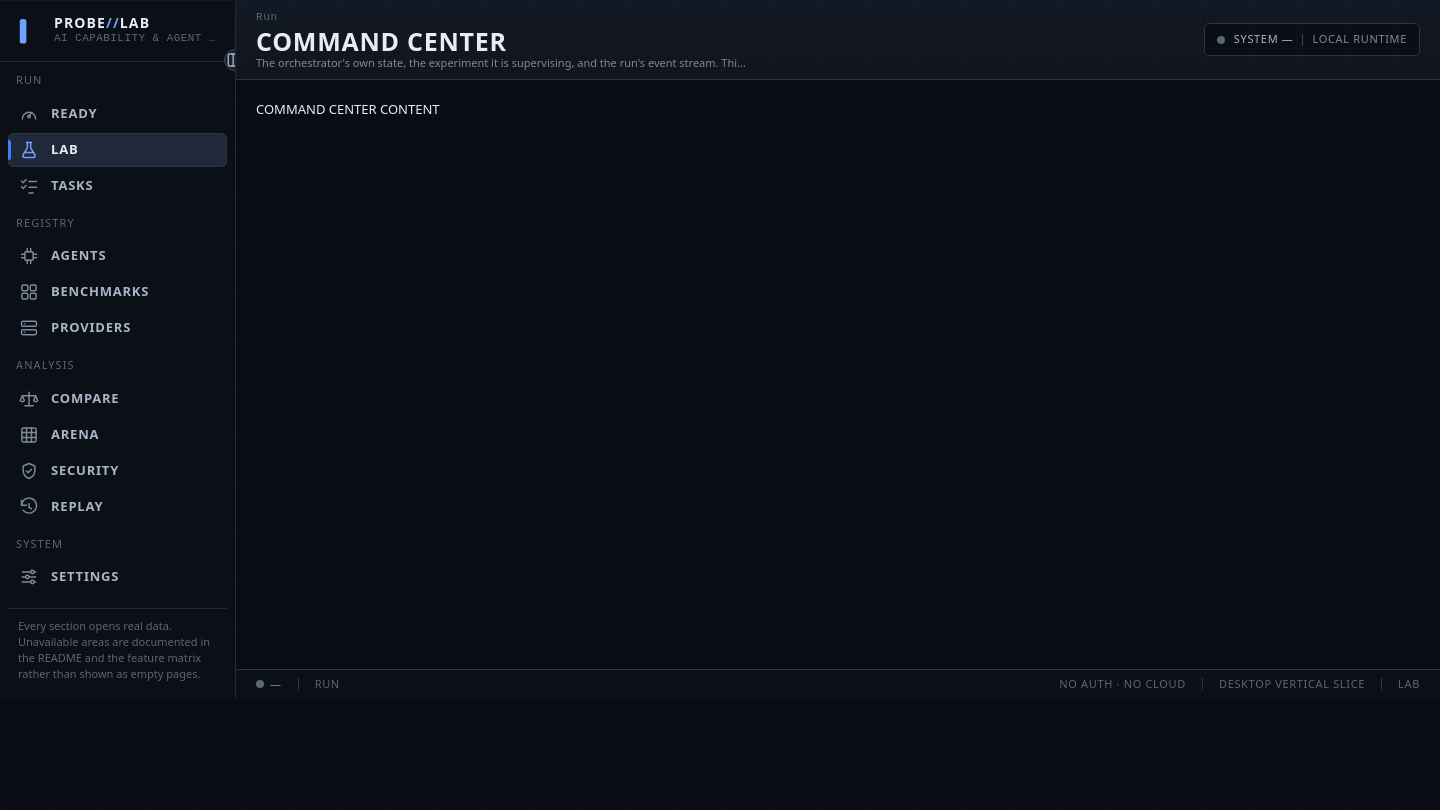
it: destination navigation › switches pages when an item is clicked
Click the button "SECURITY" at (118, 470), box left=8, top=454, right=227, bottom=488
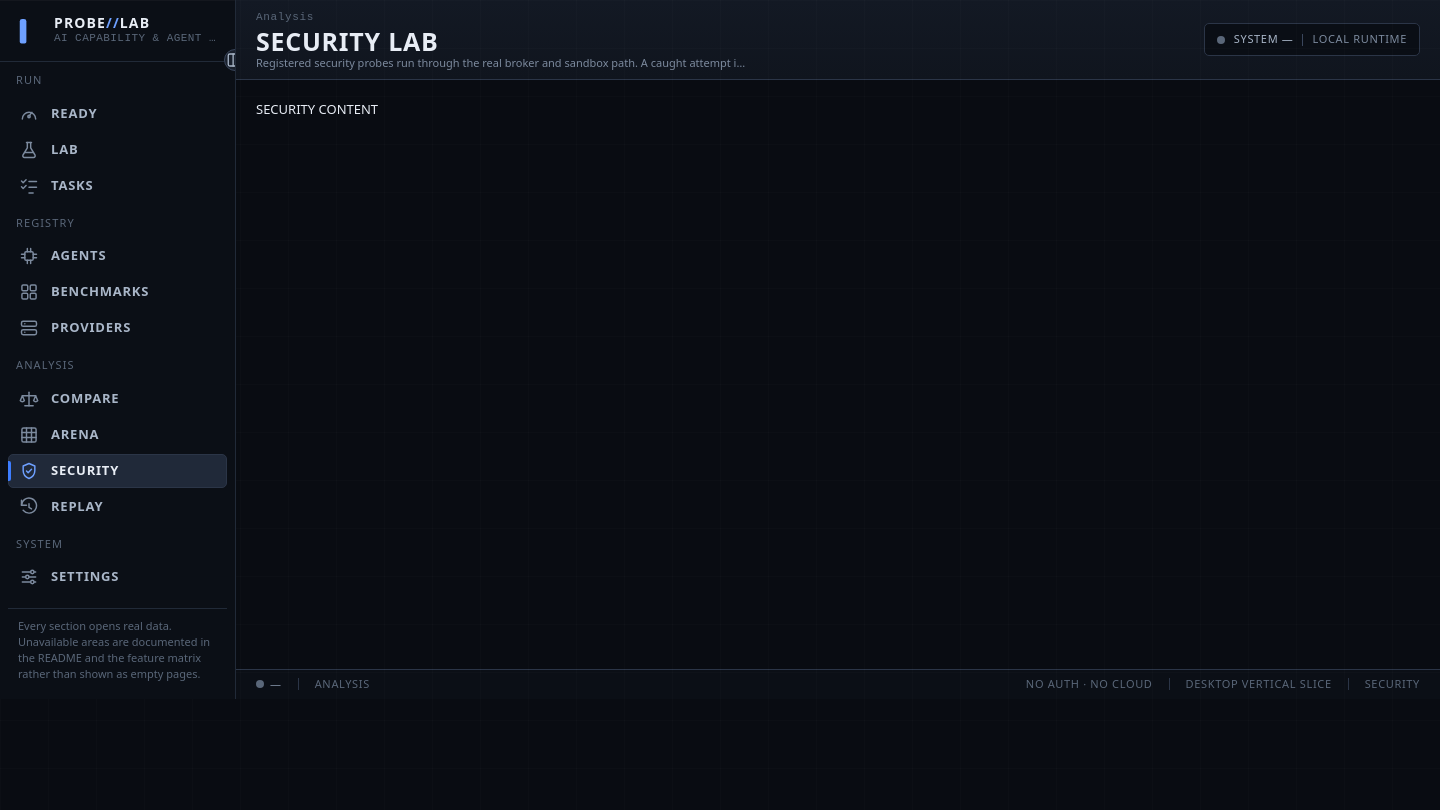
Result: the text "SECURITY CONTENT" is shown at left=256, top=100, right=378, bottom=118
Result: the text "COMMAND CENTER CONTENT" is gone
